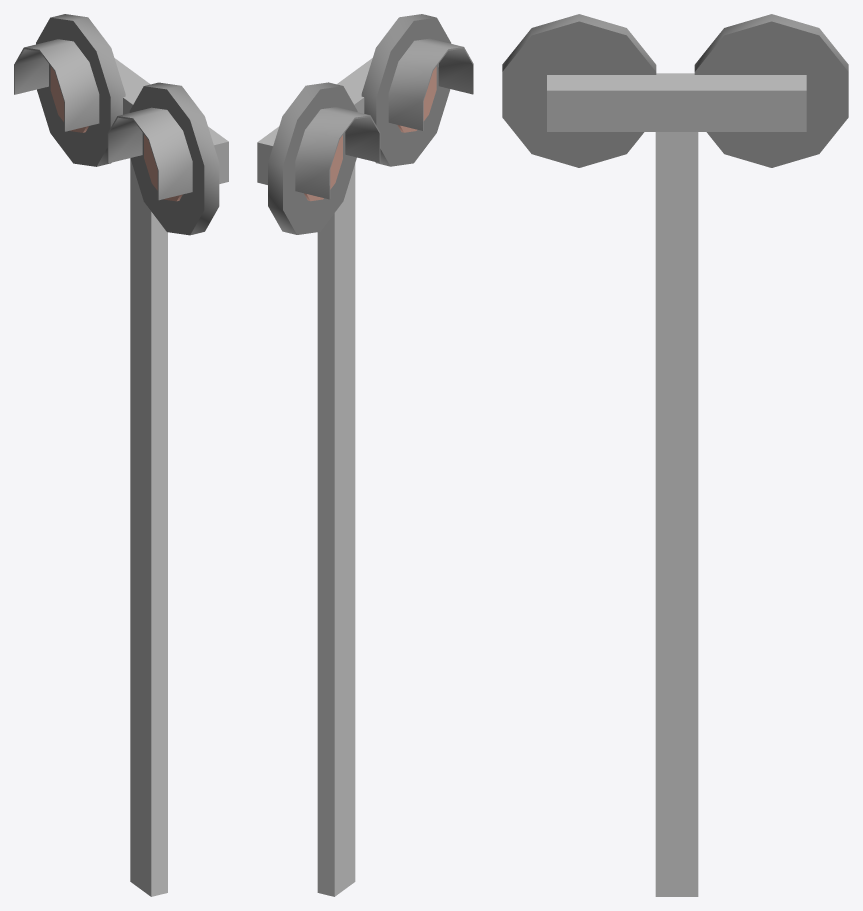
Rendered from props21.fbx.
3 views of the same model, side by side, from view 1: azimuth 30°, elevation 25°; view 2: azimuth 150°, elevation 25°; view 3: azimuth 270°, elevation 25° (orthographic). The views are drawn at different scales.
Visible parts, largest first — view 1: Extrude_11; view 2: Extrude_11; view 3: Extrude_11.
Boxes of the visible parts, <box> form: Extrude_11: <box>14,14,228,896</box>; Extrude_11: <box>257,14,473,896</box>; Extrude_11: <box>502,14,848,896</box>.
Size of the model in its own units: 46.86 by 467 by 170.
